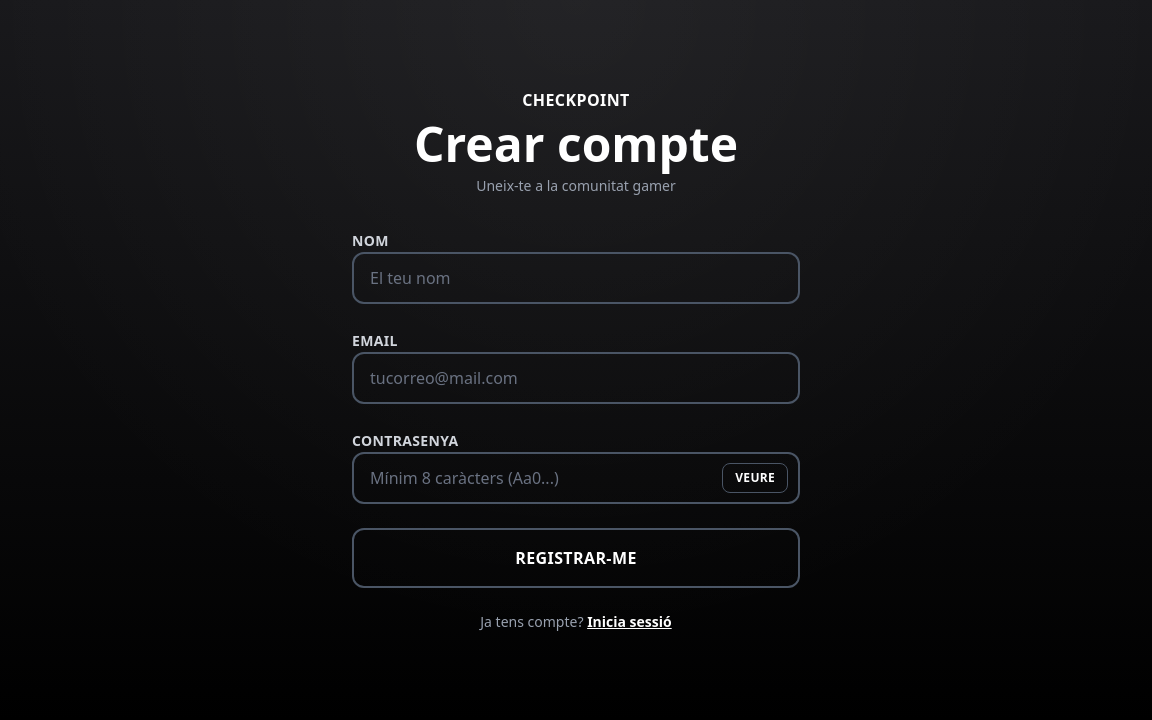
Test case: Register.vue › shows validation error for invalid email
The width and height of the screenshot is (1152, 720).
Type "Test User" into the field with placeholder "El teu nom". click: (576, 278)
box: [352,252,800,304]
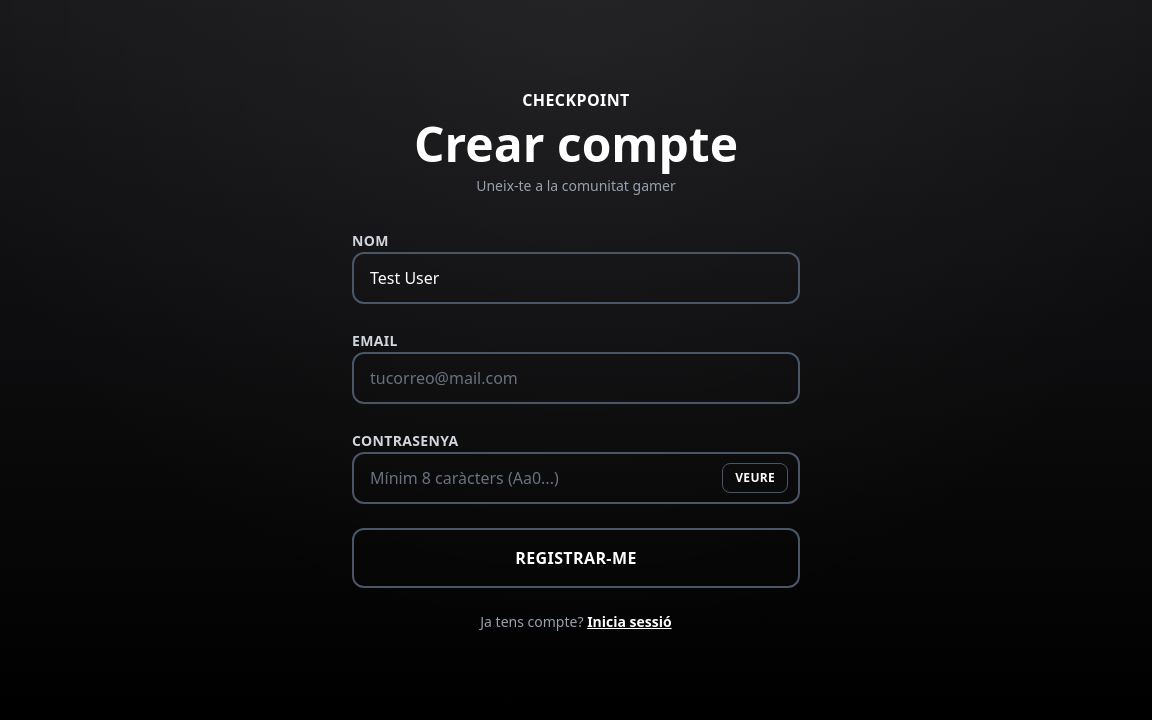
Type "not-an-email" into the field with placeholder "tucorreo@mail.com". click: (576, 378)
box: [352,352,800,404]
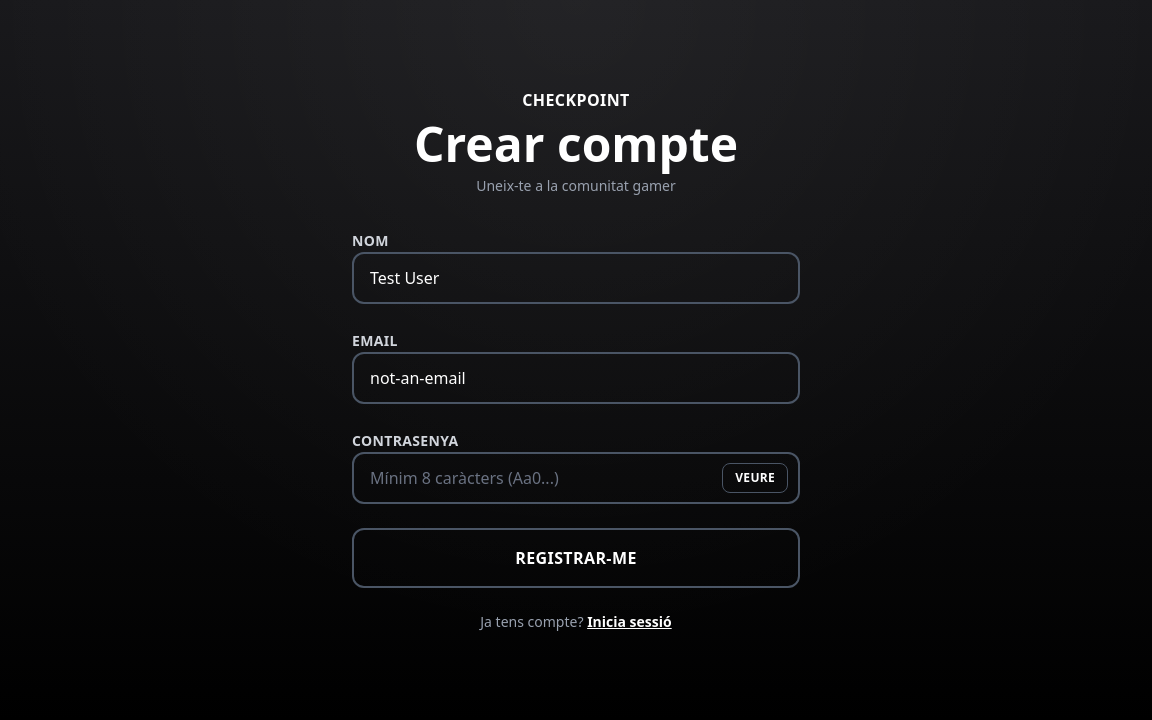
Type "Password123" into the password field labelled "Contrasenya Veure". click: (576, 478)
box: [352,452,800,504]
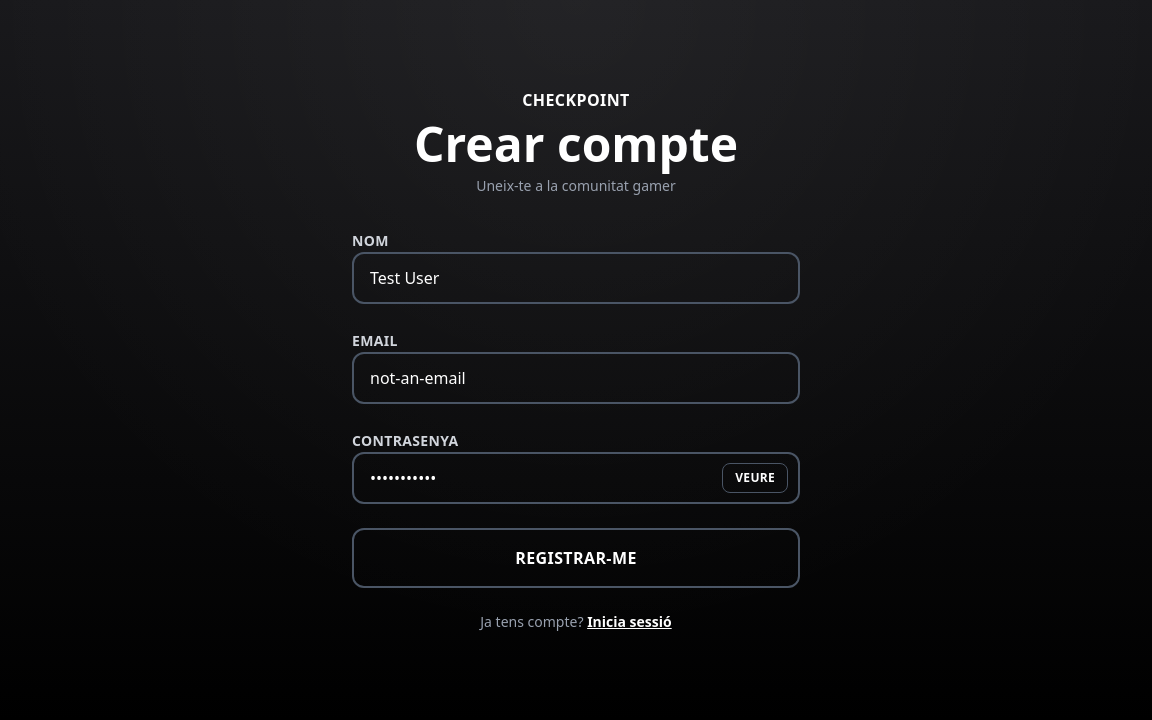
Submit the form, box [352,228,800,632]
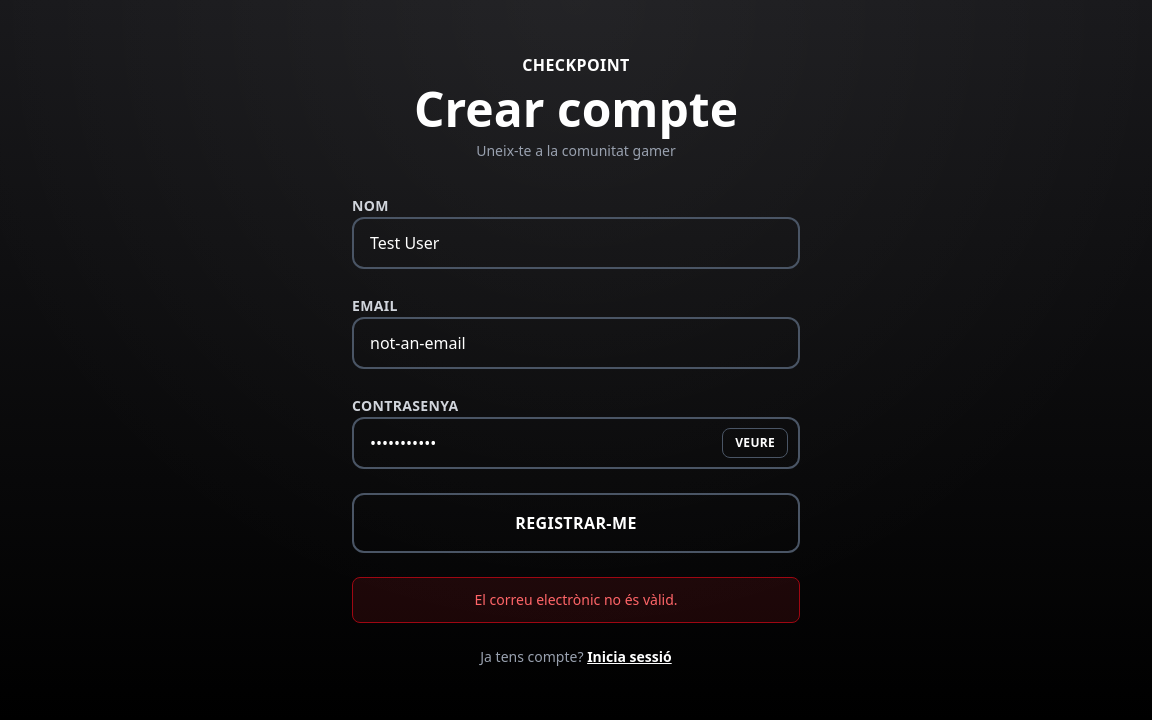
expect the text "El correu electrònic no és vàlid." is shown: met, box [352,577,800,623]
